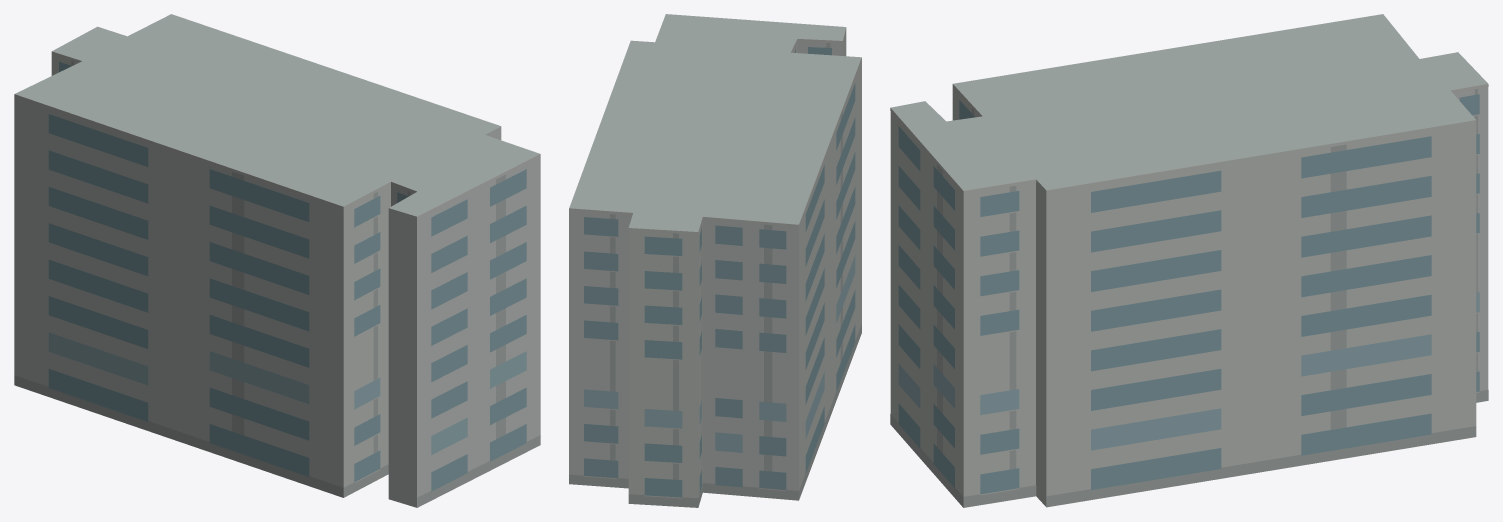
Rendered from survey-upis-32642162.glb.
3 views of the same model, side by side, from view 1: azimuth 30°, elevation 25°; view 2: azimuth 150°, elevation 25°; view 3: azimuth 270°, elevation 25° (orthographic). The views are drawn at different scales.
Parts seen in each view (by area): view 1: survey-upis-32642162.tmp; view 2: survey-upis-32642162.tmp; view 3: survey-upis-32642162.tmp.
Boxes of the visible parts, left/top/right/bottom form: survey-upis-32642162.tmp: left=14, top=14, right=540, bottom=507; survey-upis-32642162.tmp: left=569, top=14, right=861, bottom=507; survey-upis-32642162.tmp: left=890, top=14, right=1488, bottom=507.
Bounding box in the file's own units: 29.24 × 24.4 × 41.73.
